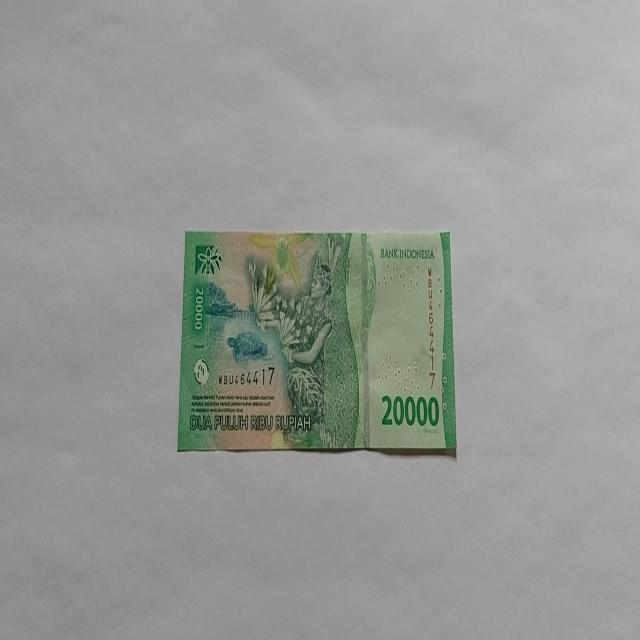dua puluh ribu rupiah: (176, 227, 457, 457)
